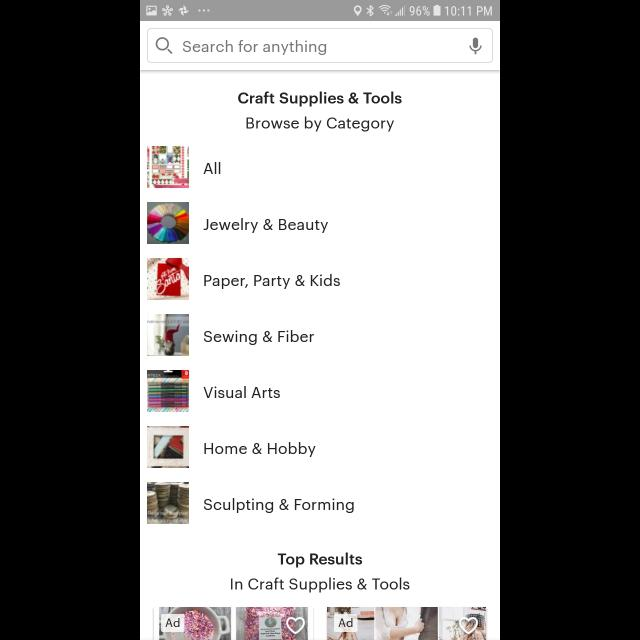icon: (286, 617, 306, 635), (458, 618, 478, 634), (156, 37, 172, 54), (470, 37, 482, 54)
image: (154, 606, 314, 640), (327, 607, 486, 640), (147, 258, 189, 300), (147, 314, 189, 356), (147, 370, 189, 412), (147, 426, 189, 468), (147, 482, 189, 524), (147, 202, 189, 244), (147, 146, 189, 188)
input: (148, 28, 492, 64)
text: (230, 578, 410, 592), (204, 498, 354, 514), (182, 40, 326, 56), (238, 92, 402, 106), (204, 274, 340, 290), (246, 118, 394, 132), (204, 218, 328, 234), (204, 442, 316, 458), (203, 330, 314, 346), (278, 552, 362, 568), (203, 386, 280, 398), (203, 162, 220, 174)
textbutton: (334, 614, 358, 632), (161, 614, 185, 632)
uppertaskbar: (140, 1, 500, 22)
